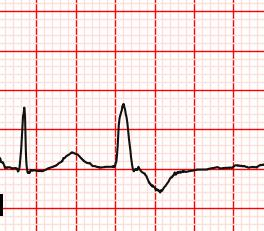T inversion: (135, 164, 183, 195)
